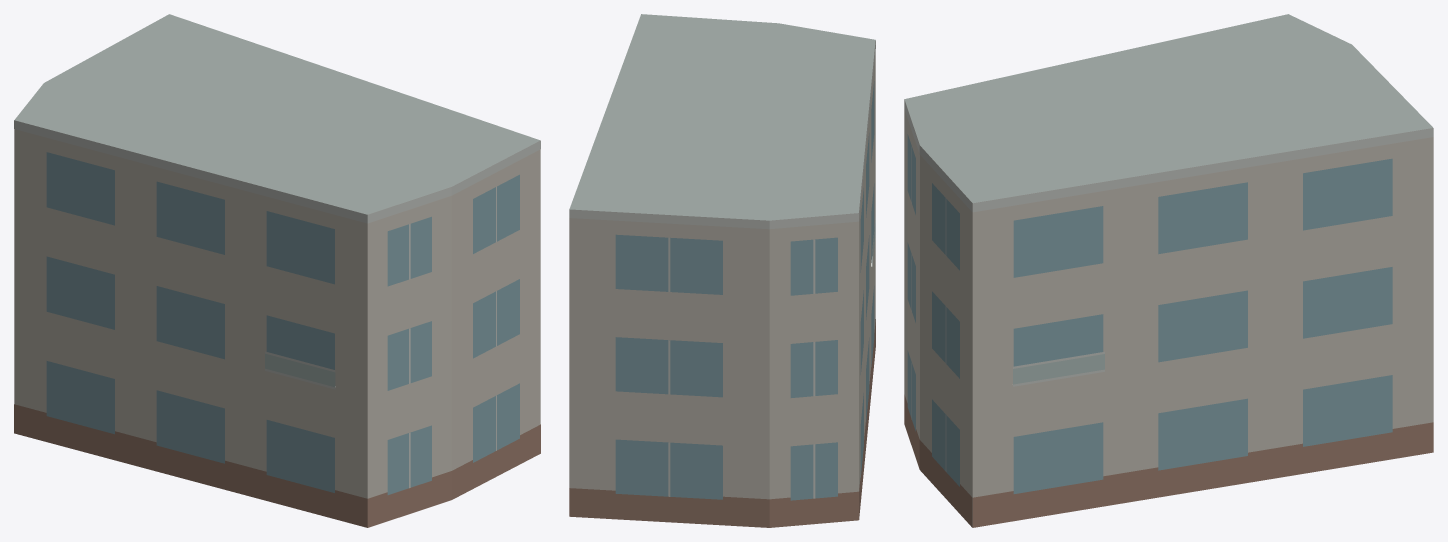
Rendered from survey-upis-32672528.glb.
3 views of the same model, side by side, from view 1: azimuth 30°, elevation 25°; view 2: azimuth 150°, elevation 25°; view 3: azimuth 270°, elevation 25° (orthographic). The views are drawn at different scales.
Parts seen in each view (by area): view 1: survey-upis-32672528.tmp; view 2: survey-upis-32672528.tmp; view 3: survey-upis-32672528.tmp.
Boxes of the visible parts, left/top/right/bottom form: survey-upis-32672528.tmp: left=14, top=14, right=540, bottom=527; survey-upis-32672528.tmp: left=569, top=14, right=875, bottom=527; survey-upis-32672528.tmp: left=904, top=14, right=1433, bottom=527.
Bounding box in the file's own units: 10.89 × 8.7 × 12.87.
